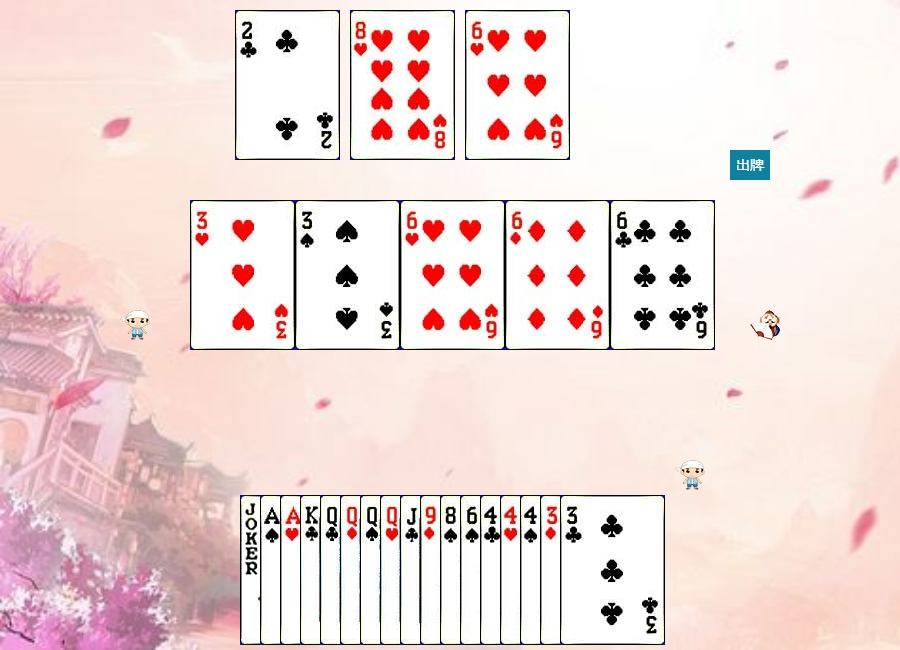11~2: (400, 495, 505, 645)
12~1: (340, 495, 445, 645)
12~2: (320, 495, 425, 645)
12~3: (380, 495, 485, 645)
12~4: (360, 495, 465, 645)
13~2: (300, 495, 405, 645)
14~3: (280, 495, 385, 645)
14~4: (260, 495, 365, 645)
15~2: (235, 10, 340, 160)
17~3: (240, 495, 345, 645)
3~1: (540, 495, 645, 645)
3~2: (560, 495, 665, 645)
3~3: (190, 200, 295, 350)
3~4: (295, 200, 400, 350)
4~2: (480, 495, 585, 645)
4~3: (500, 495, 605, 645)
4~4: (520, 495, 625, 645)
6~1: (505, 200, 610, 350)
6~2: (610, 200, 715, 350)
6~3: (465, 10, 570, 160), (400, 200, 505, 350)
6~4: (460, 495, 565, 645)
8~3: (350, 10, 455, 160)
8~4: (440, 495, 545, 645)
9~1: (420, 495, 525, 645)
